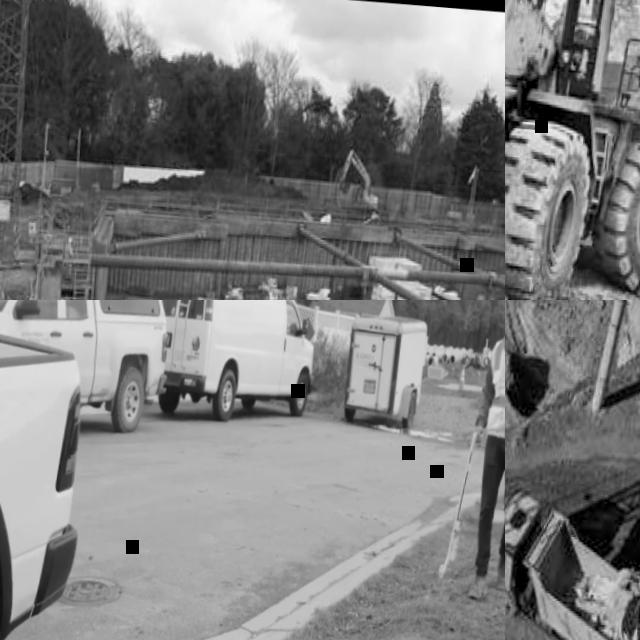Hardhat: (68, 237, 72, 243)
Person: (458, 300, 505, 606)
Safety Cone: (458, 364, 466, 393)
Safety Vest: (483, 330, 505, 442), (60, 236, 76, 284), (64, 243, 71, 259)
vehicle: (505, 0, 640, 300), (0, 325, 96, 640), (0, 300, 174, 437), (144, 300, 323, 431), (505, 481, 640, 640), (335, 148, 382, 214), (446, 198, 464, 223)
